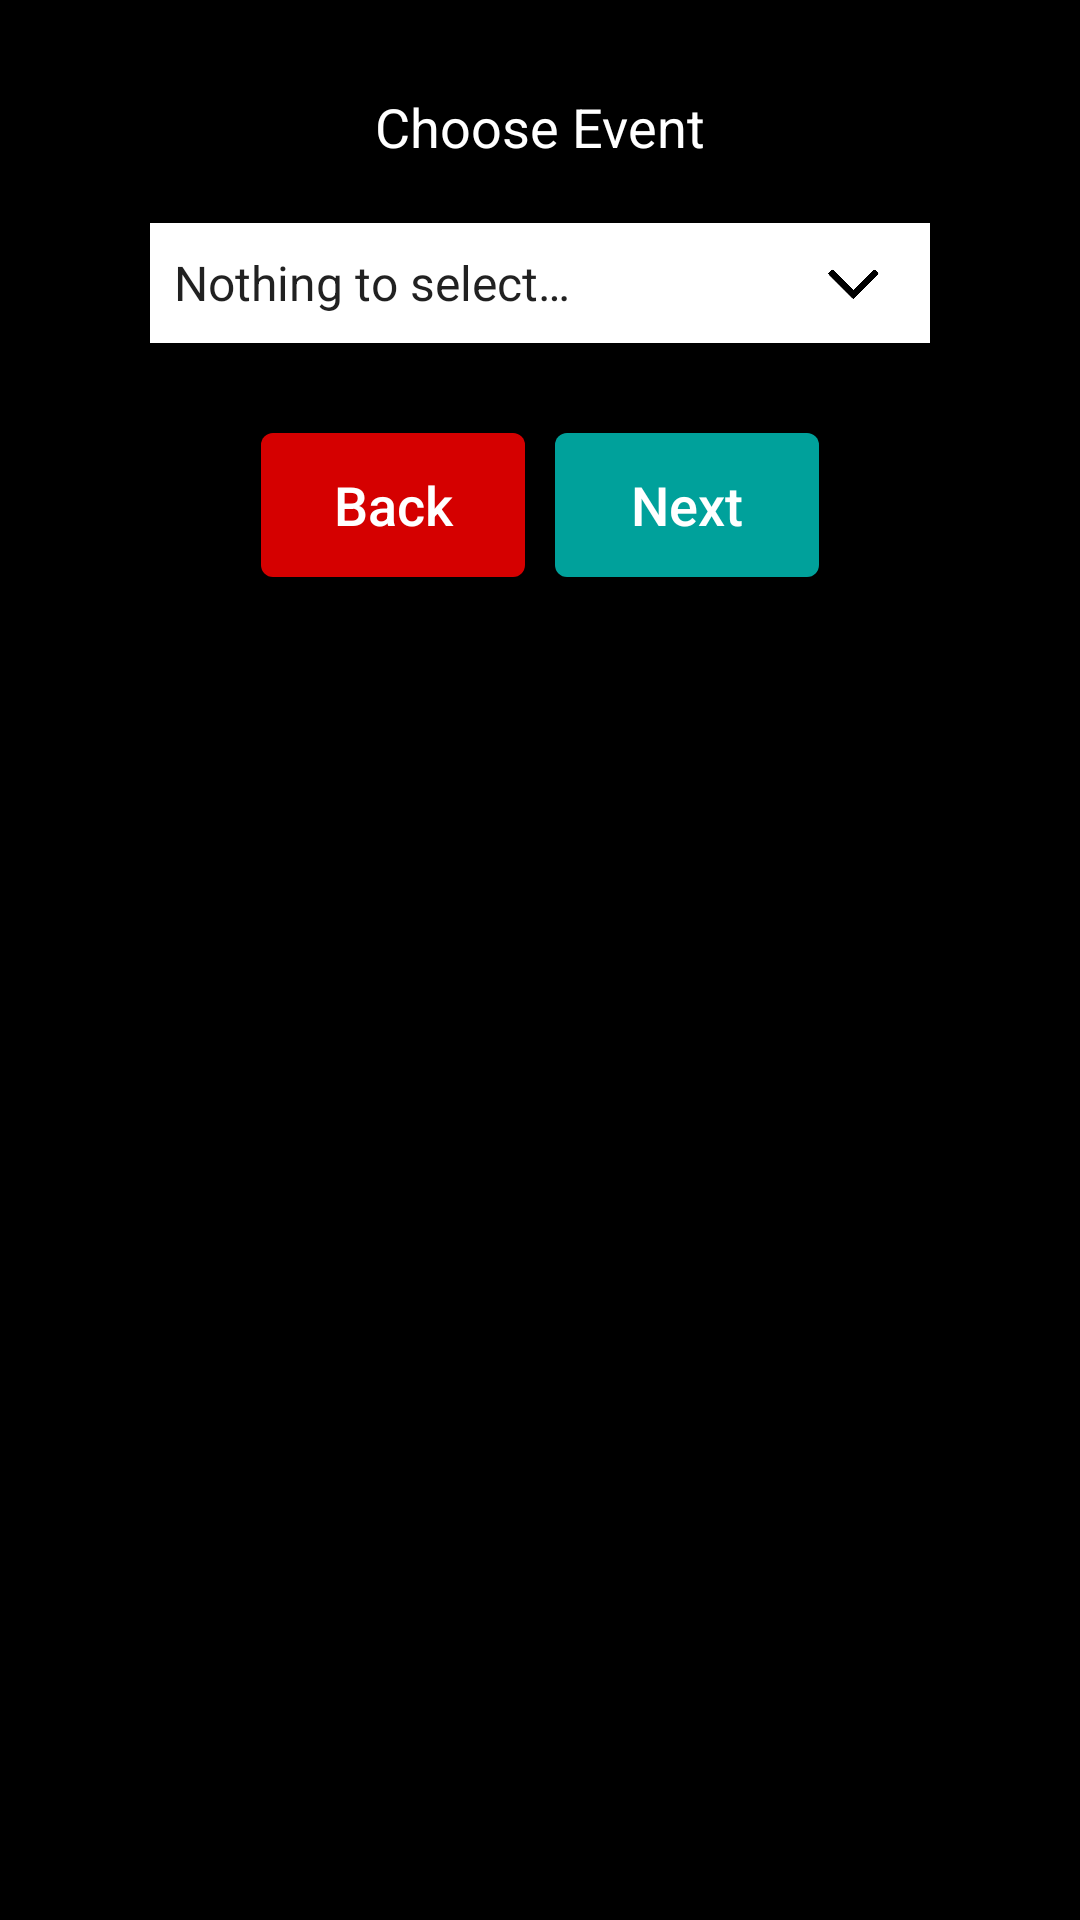

Icon bounding boxes for this 1080*1920 phone screenshot, format (left=x1, top=y1, right=x2, bottom=y2):
arrow drop down: (left=828, top=270, right=879, bottom=299)
